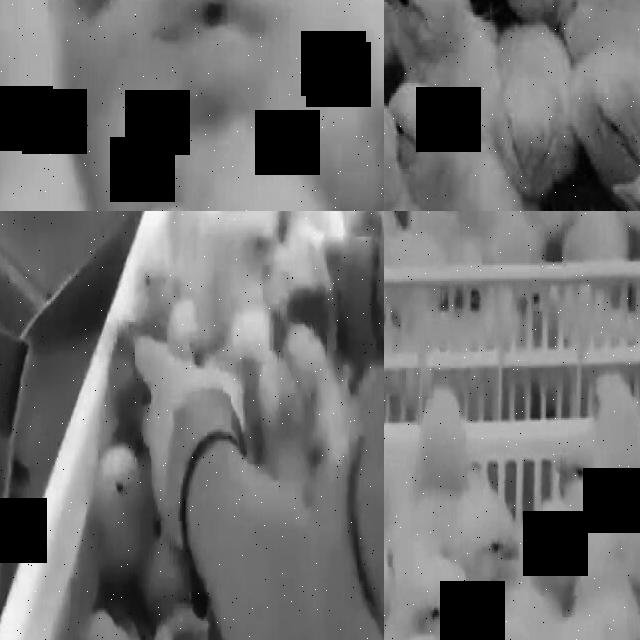chicks: (150, 0, 299, 67), (494, 74, 572, 200), (384, 0, 483, 71), (392, 84, 456, 182), (581, 69, 640, 167), (205, 165, 320, 211), (460, 500, 522, 576), (591, 377, 640, 467), (419, 400, 468, 484), (405, 581, 471, 640), (529, 512, 577, 590), (242, 220, 292, 292), (232, 296, 275, 367), (180, 291, 220, 367), (99, 448, 142, 517), (577, 211, 629, 266), (577, 593, 636, 640), (140, 260, 178, 332), (289, 318, 326, 388), (249, 369, 295, 425), (555, 448, 598, 507), (384, 88, 405, 183)
